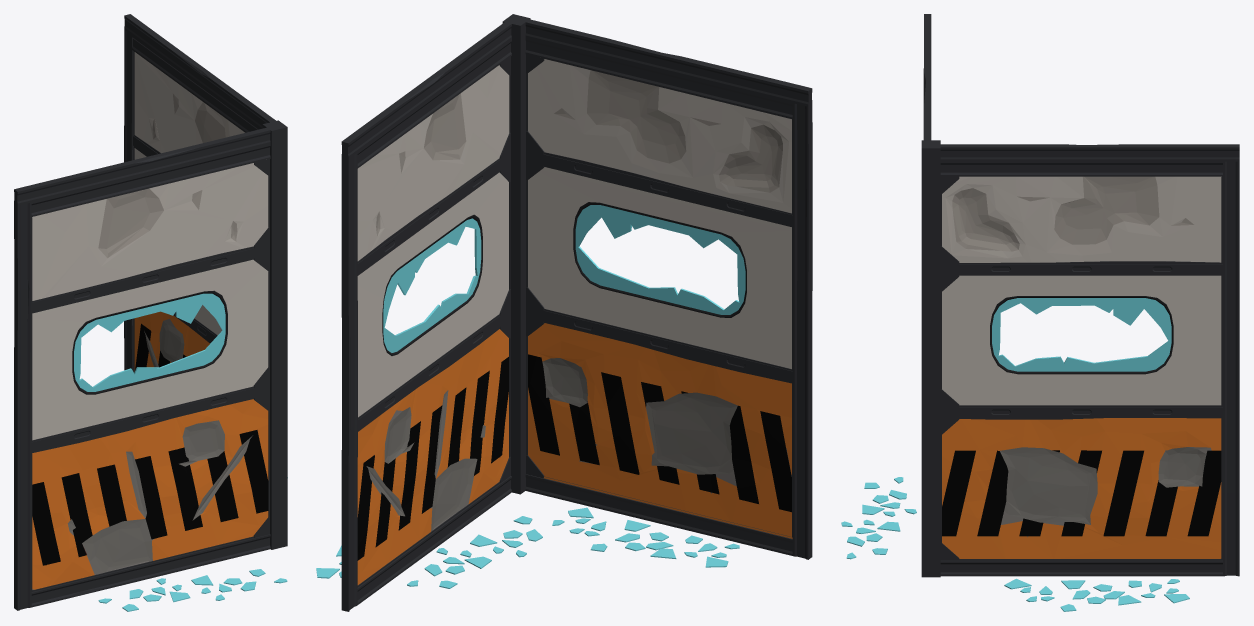
The model's file is SM_Wall_Angle_Broken_01.gltf.
The picture shows the model from 3 angles, left to right: view 1: azimuth 30°, elevation 25°; view 2: azimuth 150°, elevation 25°; view 3: azimuth 270°, elevation 25°; orthographic projection. The views are drawn at different scales.
Parts seen in each view (by area): view 1: SM_Wall_Angle_Broken_01; view 2: SM_Wall_Angle_Broken_01; view 3: SM_Wall_Angle_Broken_01.
Boxes of the visible parts, <box> form: SM_Wall_Angle_Broken_01: <box>14,14,287,611</box>; SM_Wall_Angle_Broken_01: <box>316,14,812,611</box>; SM_Wall_Angle_Broken_01: <box>841,14,1239,611</box>.
Size of the model in its own units: 2.54 by 3 by 2.52.
